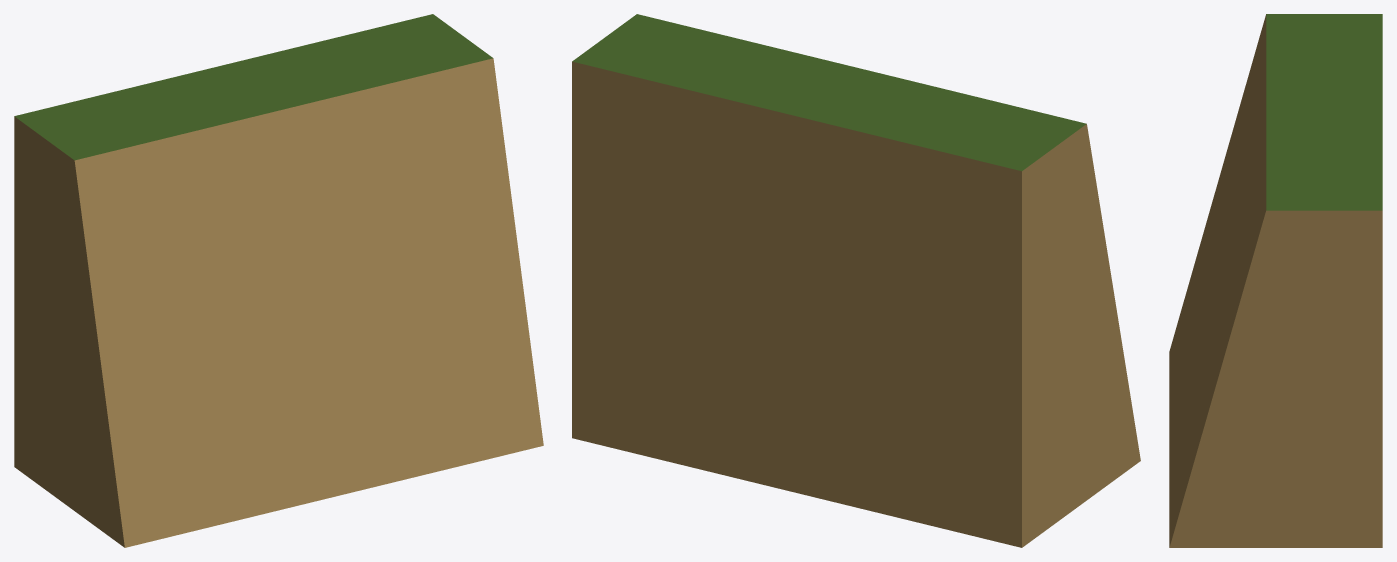
Rendered from Terrain_Modular_Tiles_Grass_Dirt_Cliff_Side_Outer_01.fbx.
3 renders of one model, left to right at view 1: azimuth 30°, elevation 25°; view 2: azimuth 150°, elevation 25°; view 3: azimuth 270°, elevation 25°, orthographic. The views are drawn at different scales.
Visible parts, largest first — view 1: Terrain_Modular_Tiles_Grass_Dirt_Cliff_Side_Outer_01; view 2: Terrain_Modular_Tiles_Grass_Dirt_Cliff_Side_Outer_01; view 3: Terrain_Modular_Tiles_Grass_Dirt_Cliff_Side_Outer_01.
Part boxes in pixels (left/top/right/bottom): Terrain_Modular_Tiles_Grass_Dirt_Cliff_Side_Outer_01: left=14, top=14, right=543, bottom=547; Terrain_Modular_Tiles_Grass_Dirt_Cliff_Side_Outer_01: left=572, top=14, right=1140, bottom=547; Terrain_Modular_Tiles_Grass_Dirt_Cliff_Side_Outer_01: left=1169, top=14, right=1382, bottom=547.
Bounding box in the file's own units: 118 × 94.49 × 54.07.
